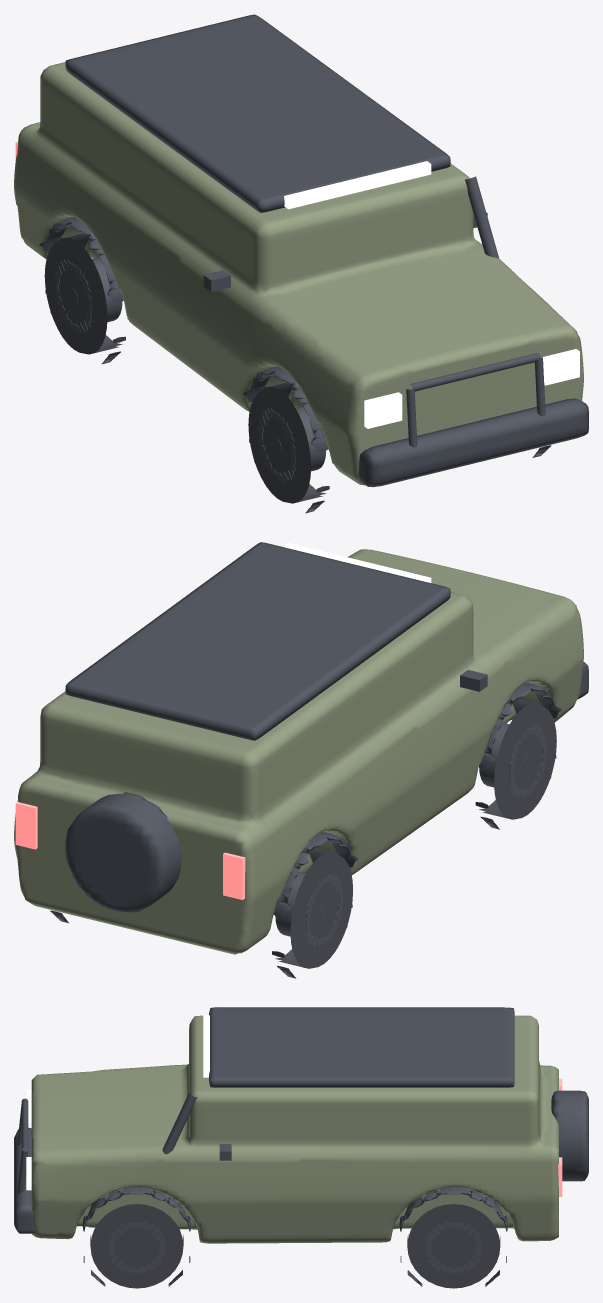
Rendered from overland_suv.glb.
The picture shows the model from 3 angles, top to bottom: view 1: azimuth 30°, elevation 25°; view 2: azimuth 150°, elevation 25°; view 3: azimuth 270°, elevation 25°; orthographic projection. The views are drawn at different scales.
Visible parts, largest first — view 1: Bodywork, CarbonAero (×2), TireRubber, HeadlightLED, ForgedRim; view 2: Bodywork, CarbonAero, TireRubber, ForgedRim, TaillightLED, HeadlightLED; view 3: Bodywork, CarbonAero (×2), TireRubber, ForgedRim, HeadlightLED.
Boxes of the visible parts, <box> form: Bodywork: <box>14,62,583,485</box>; CarbonAero (×2): <box>39,14,588,513</box>; TireRubber: <box>44,233,326,503</box>; HeadlightLED: <box>284,161,579,428</box>; ForgedRim: <box>55,257,326,483</box>; Bodywork: <box>14,549,583,954</box>; CarbonAero: <box>50,542,588,978</box>; TireRubber: <box>275,699,556,968</box>; ForgedRim: <box>275,722,546,949</box>; TaillightLED: <box>15,801,245,899</box>; HeadlightLED: <box>284,543,431,582</box>; Bodywork: <box>31,1015,558,1243</box>; CarbonAero (×2): <box>14,1007,588,1286</box>; TireRubber: <box>90,1204,500,1288</box>; ForgedRim: <box>109,1222,481,1273</box>; HeadlightLED: <box>26,1015,209,1190</box>.
Size of the model in its own units: 2.24 by 1.99 by 5.19.
